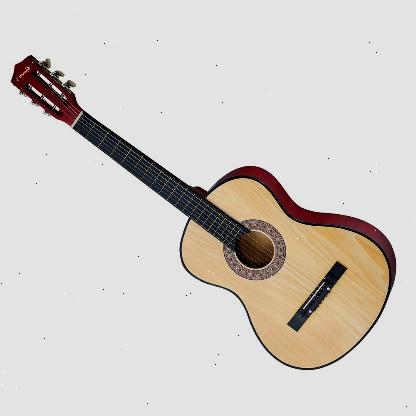acousticguitar: (11, 55, 397, 371)
